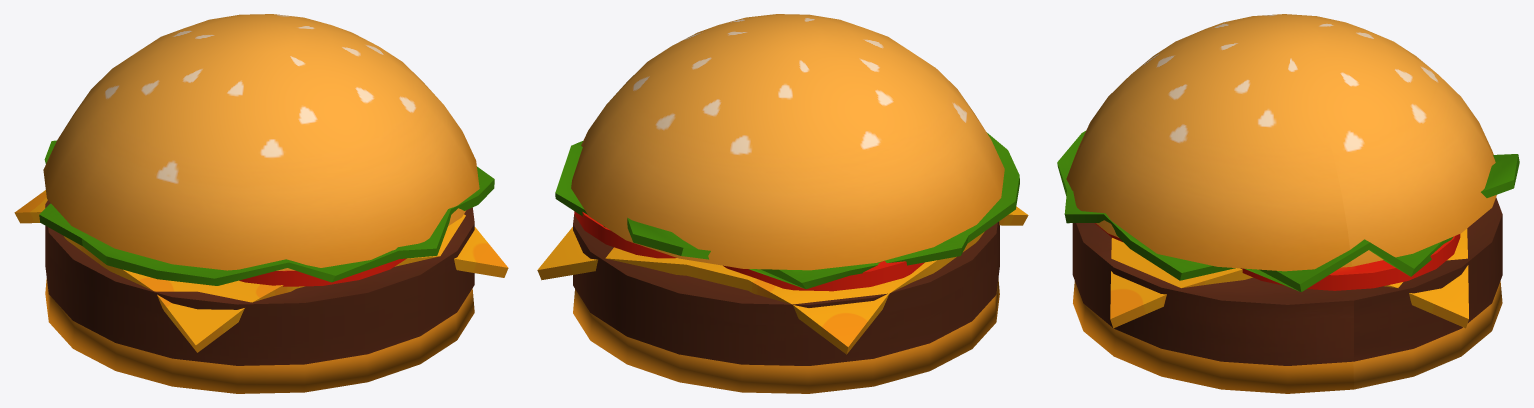
The model's file is Burger2.obj.
3 renders of one model, left to right at view 1: azimuth 30°, elevation 25°; view 2: azimuth 150°, elevation 25°; view 3: azimuth 270°, elevation 25°, orthographic.
Visible parts, largest first — view 1: polySurface16; view 2: polySurface16; view 3: polySurface16.
Boxes of the visible parts, x1=… form: polySurface16: x1=14, y1=14, x2=508, y2=393; polySurface16: x1=537, y1=14, x2=1028, y2=393; polySurface16: x1=1057, y1=14, x2=1519, y2=393.
Bounding box in the file's own units: 2.15 × 1.57 × 2.15.
Materials: 8 (8 with a texture image).
